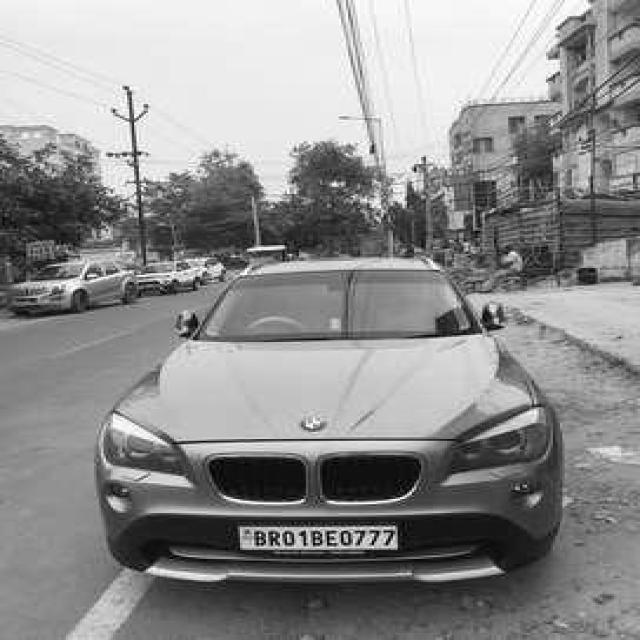car: (80, 247, 579, 580)
license-plate: (235, 529, 402, 552)
